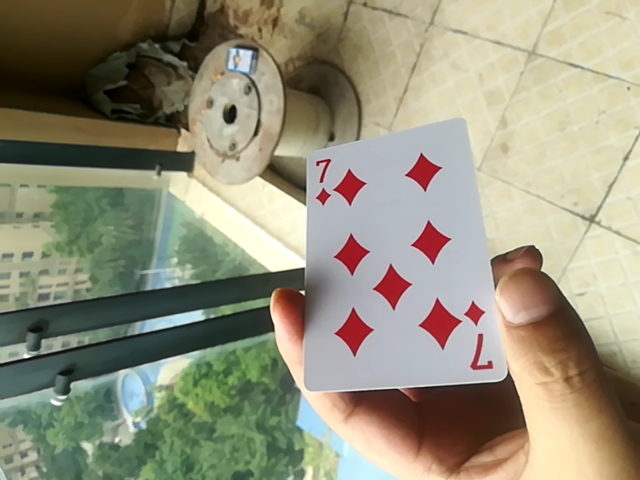fk 7: (294, 121, 501, 392)
